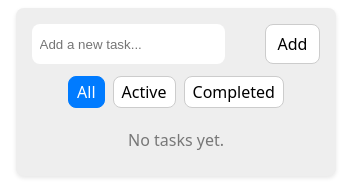
Test: T5 - normal title, empty list, filter All › T5 - should add first task when list is initially empty
Expected: the list item "No tasks yet." is shown, [128,129,224,151]
Type "Buy milk" into the field with placeholder "Add a new task..." at (128, 44), box [32,24,224,64]
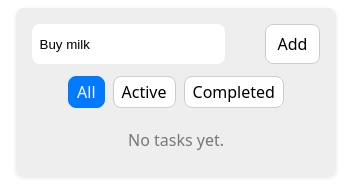
Click the button "Add" at (292, 44), box [264,24,320,64]
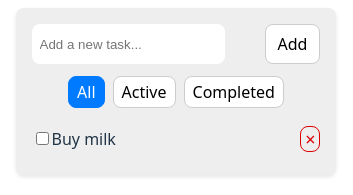
Result: the text "Buy milk" is shown at [52,128,116,150]
Result: the list item "No tasks yet" is gone
Result: the field with placeholder "Add a new task..." is empty at [32,24,224,64]
